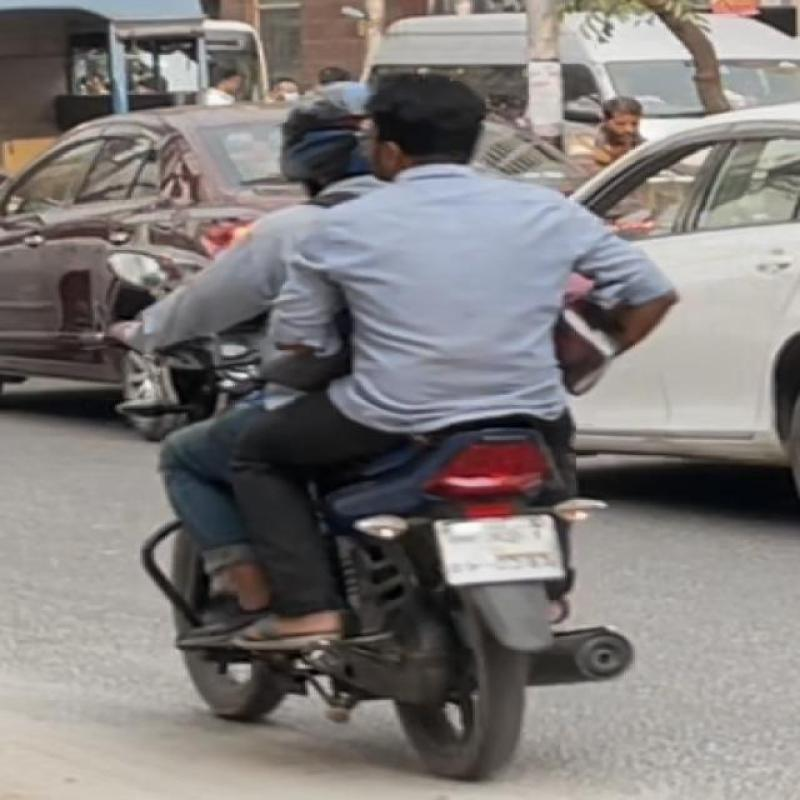nohelmet: (332, 50, 510, 190)
